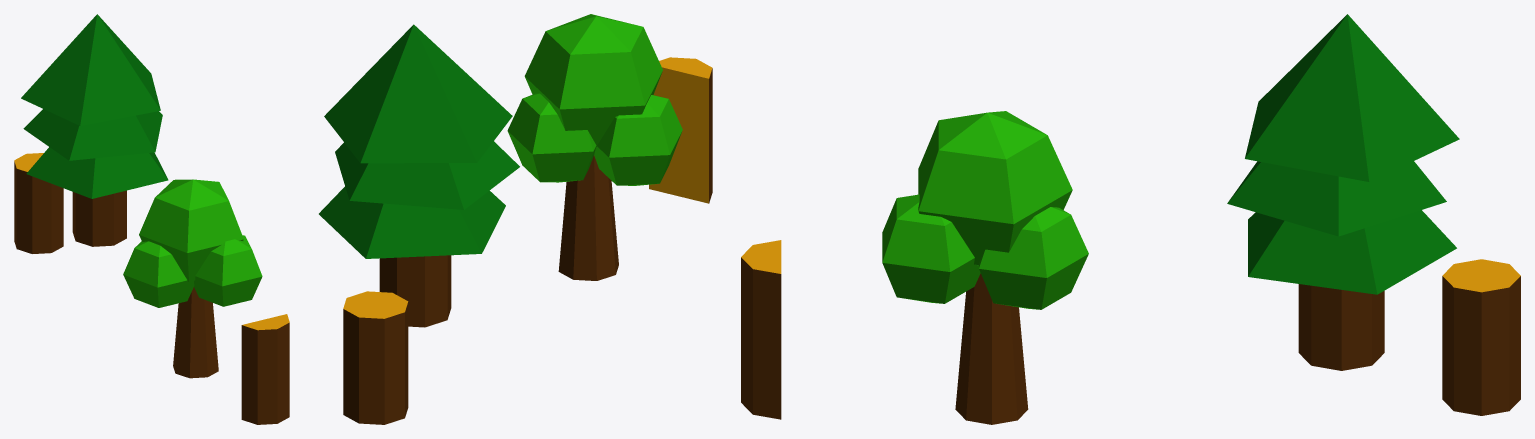
Rendered from tree.fbx.
The picture shows the model from 3 angles, left to right: view 1: azimuth 30°, elevation 25°; view 2: azimuth 150°, elevation 25°; view 3: azimuth 270°, elevation 25°; orthographic projection. The views are drawn at different scales.
Visible parts, largest first — view 1: Cone.002, Sphere, Cylinder.002, Cylinder; view 2: Cone.002, Sphere, Cylinder, Cylinder.002; view 3: Cone.002, Sphere, Cylinder, Cylinder.002.
Boxes of the visible parts, x1,y1,x2,y2 form: Cone.002: (21, 14, 168, 246); Sphere: (123, 179, 262, 378); Cylinder.002: (241, 314, 289, 424); Cylinder: (14, 153, 63, 253); Cone.002: (319, 24, 519, 327); Sphere: (507, 14, 682, 280); Cylinder: (343, 291, 408, 424); Cylinder.002: (649, 57, 712, 203); Cone.002: (1227, 14, 1459, 370); Sphere: (882, 111, 1088, 424); Cylinder: (1442, 259, 1520, 415); Cylinder.002: (741, 240, 781, 419).
Bounding box in the file's own units: 429 × 741 × 1282.
